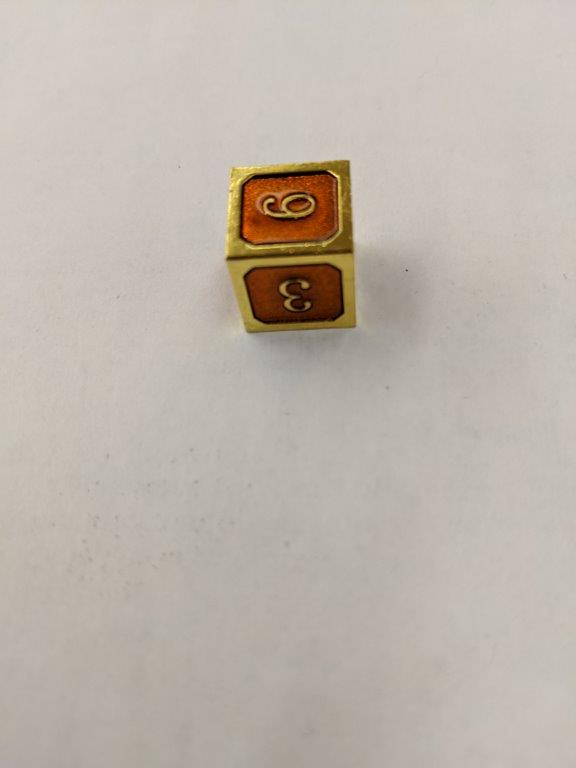d6-6: (224, 161, 360, 336)
